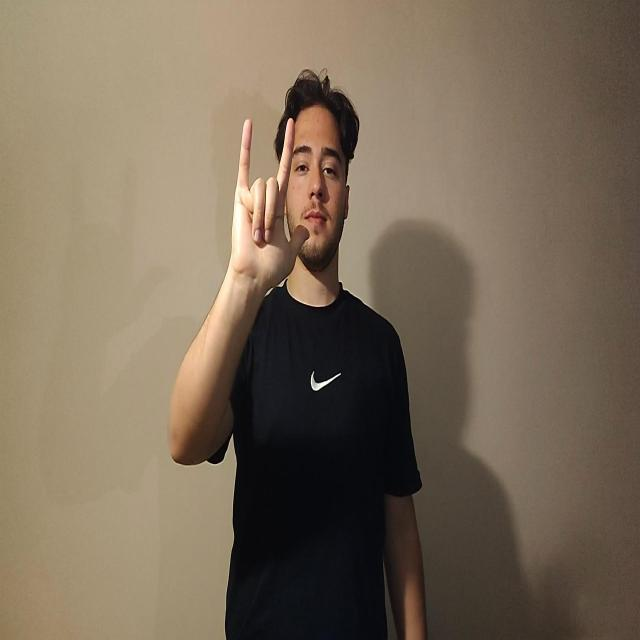iloveyou: (229, 115, 309, 294)
